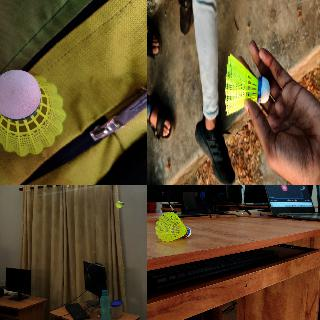shuttlecock: (0, 71, 66, 158), (224, 53, 270, 115), (155, 212, 191, 240), (115, 201, 124, 207)
